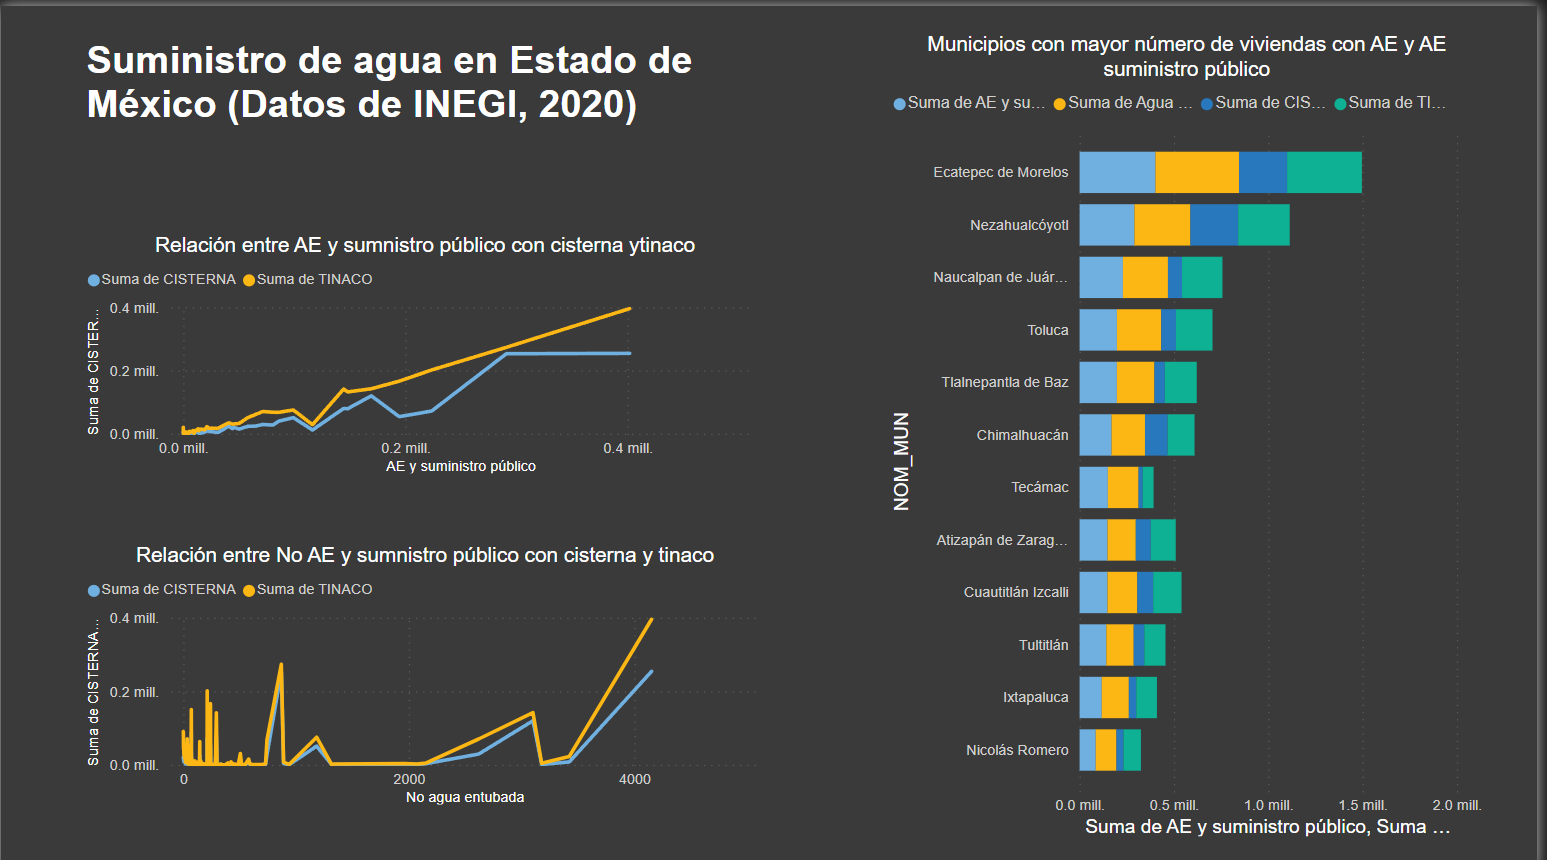

What the dashboard file says about the page in this screenshot:
{"tool":"powerbi","page":{"name":"Página 2","canvas":[1280,720],"ordinal":1},"visuals":[{"type":"lineChart","title":"Relación entre AE y sumnistro público con  cisterna ytinaco","fields":{"Y":["Sum(Datos limpios inegi.CISTERNA)","Sum(Datos limpios inegi.TINACO)"],"Category":["Datos limpios inegi.AE y suministro público"]},"box":[65.7,188.6,574.3,205.7],"z":0},{"type":"lineChart","title":"Relación entre No AE y sumnistro público con  cisterna y tinaco","fields":{"Y":["Sum(Datos limpios inegi.CISTERNA)","Sum(Datos limpios inegi.TINACO)"],"Category":["Datos limpios inegi.No agua entubada"]},"box":[65.7,447.1,574.3,222.9],"z":1000},{"type":"barChart","title":"Municipios con mayor número de viviendas con AE y AE suministro público","fields":{"Category":["Datos limpios inegi.NOM_MUN"],"Y":["Sum(Datos limpios inegi.AE y suministro público)","Sum(Datos limpios inegi.Agua entubada (AE))","Sum(Datos limpios inegi.CISTERNA)","Sum(Datos limpios inegi.TINACO)"]},"box":[737.1,21.4,501.4,675.7],"z":3000},{"type":"textbox","box":[66,21,574,168],"z":3001}]}

Visuals, with their boxes in screenshot pixels (x1, y1, x2, y2), scaled from the page's 1280x720 canvas onto the 1547x860 screenshot:
"Relación entre AE y sumnistro público con  cisterna ytinaco" lineChart: <box>79,225,774,471</box>
"Relación entre No AE y sumnistro público con  cisterna y tinaco" lineChart: <box>79,534,774,800</box>
"Municipios con mayor número de viviendas con AE y AE suministro público" barChart: <box>891,26,1497,833</box>
textbox: <box>80,25,774,226</box>
